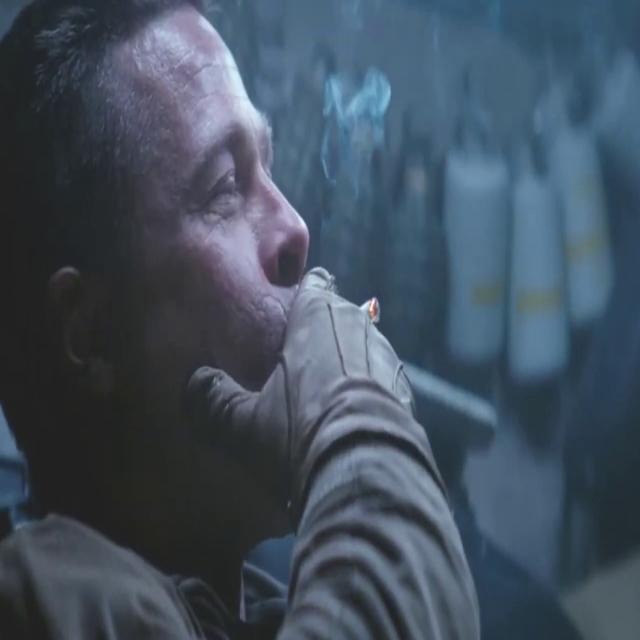Smooking: (358, 283, 388, 328)
